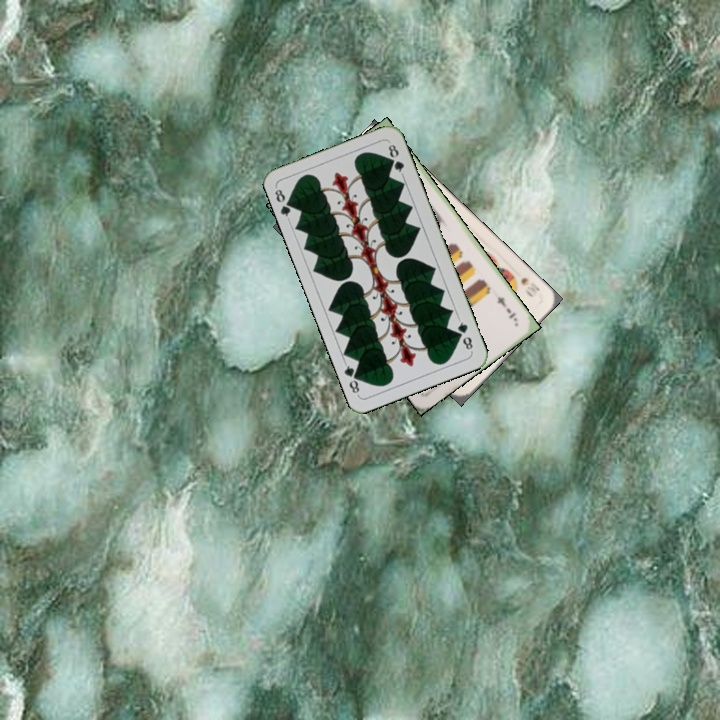E7: (493, 292, 520, 324)
G8: (270, 184, 297, 223), (453, 315, 475, 354)
S10: (517, 273, 542, 299)
